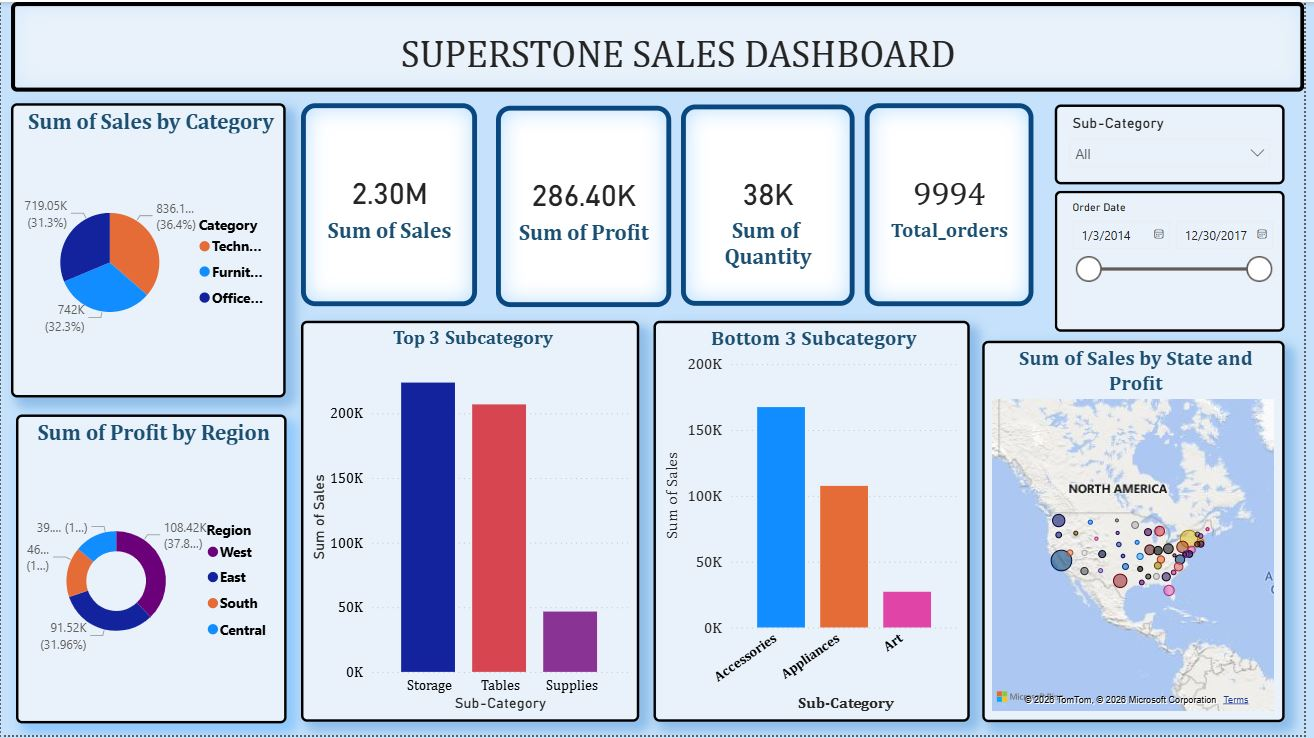

This screenshot's page, from the dashboard's own definition file:
{"tool":"powerbi","page":{"name":"SuperStone Sales Dashboard","canvas":[1280,720],"ordinal":16},"visuals":[{"type":"pieChart","fields":{"Y":["Sum(Orders.Sales)"],"Category":["Orders.Category"]},"box":[10.1,99.6,269.8,288.6],"z":0},{"type":"card","fields":{"Values":["Sum(Orders.Sales)"]},"box":[294.3,99.6,173.1,199.1],"z":1000},{"type":"card","fields":{"Values":["Sum(Orders.Quantity)"]},"box":[668,101,170.2,197.7],"z":2000},{"type":"card","fields":{"Values":["Sum(Orders.Profit)"]},"box":[485.9,101.8,171.8,197.5],"z":3000},{"type":"slicer","fields":{"Values":["Orders.Sub-Category"]},"box":[1034.4,100.6,225.8,78.5],"z":4000},{"type":"slicer","fields":{"Values":["Orders.Order Date"]},"box":[1034.4,185.3,225.8,138.7],"z":5000},{"type":"card","fields":{"Values":["Orders.Total_orders"]},"box":[848.3,99.6,165.9,199.1],"z":6000},{"type":"donutChart","fields":{"Category":["Orders.Region"],"Y":["Sum(Orders.Profit)"]},"box":[14.4,405.4,265.5,303],"z":7000},{"type":"columnChart","title":"Bottom 3 Subcategory","fields":{"Category":["Orders.Sub-Category"],"Y":["Sum(Orders.Sales)"]},"box":[640.6,313.1,310.2,393.9],"z":8000},{"type":"columnChart","title":"Top 3 Subcategory","fields":{"Y":["Sum(Orders.Sales)"],"Category":["Orders.Sub-Category"]},"box":[294.3,313.1,331.8,393.9],"z":9000},{"type":"map","title":"Sum of Sales by State and Profit ","fields":{"Category":["Orders.State"],"Size":["Sum(Orders.Sales)"]},"box":[963.2,332.5,296.9,374.2],"z":10000},{"type":"textbox","box":[9.8,0,1269.9,88.3],"z":11000}]}

Visuals, with their boxes in screenshot pixels (x1, y1, x2, y2), scaled from the page's 1280x720 canvas onto the 1314x738 screenshot:
pieChart - Sum(Orders.Sales) x Orders.Category: bbox=(10, 102, 287, 398)
card - Sum(Orders.Sales): bbox=(302, 102, 480, 306)
card - Sum(Orders.Quantity): bbox=(686, 104, 860, 306)
card - Sum(Orders.Profit): bbox=(499, 104, 675, 307)
slicer - Orders.Sub-Category: bbox=(1062, 103, 1294, 184)
slicer - Orders.Order Date: bbox=(1062, 190, 1294, 332)
card - Orders.Total_orders: bbox=(871, 102, 1041, 306)
donutChart - Orders.Region x Sum(Orders.Profit): bbox=(15, 416, 287, 726)
"Bottom 3 Subcategory" columnChart: bbox=(658, 321, 976, 725)
"Top 3 Subcategory" columnChart: bbox=(302, 321, 643, 725)
"Sum of Sales by State and Profit " map: bbox=(989, 341, 1294, 724)
textbox: bbox=(10, 0, 1313, 91)
